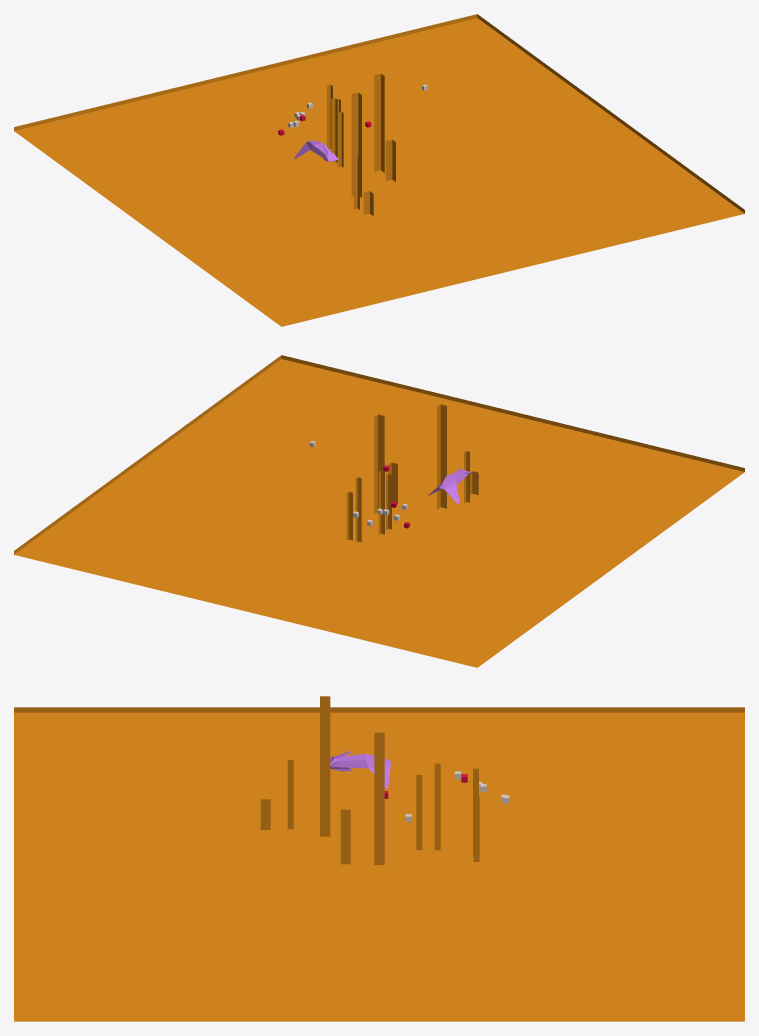
Rendered from sci-fi-setup.glb.
3 renders of one model, top to bottom at view 1: azimuth 30°, elevation 25°; view 2: azimuth 150°, elevation 25°; view 3: azimuth 270°, elevation 25°, orthographic. The views are drawn at different scales.
Parts seen in each view (by area): view 1: Plane; view 2: Plane, Cube.004; view 3: Plane, Cube.004.
Boxes of the visible parts, x1,y1,x2,y2 form: Plane: [14, 14, 744, 326]; Plane: [14, 355, 744, 667]; Cube.004: [428, 469, 470, 504]; Plane: [14, 696, 744, 1021]; Cube.004: [330, 751, 390, 788].
Size of the model in its own units: 25.47 by 9.84 by 25.47.
